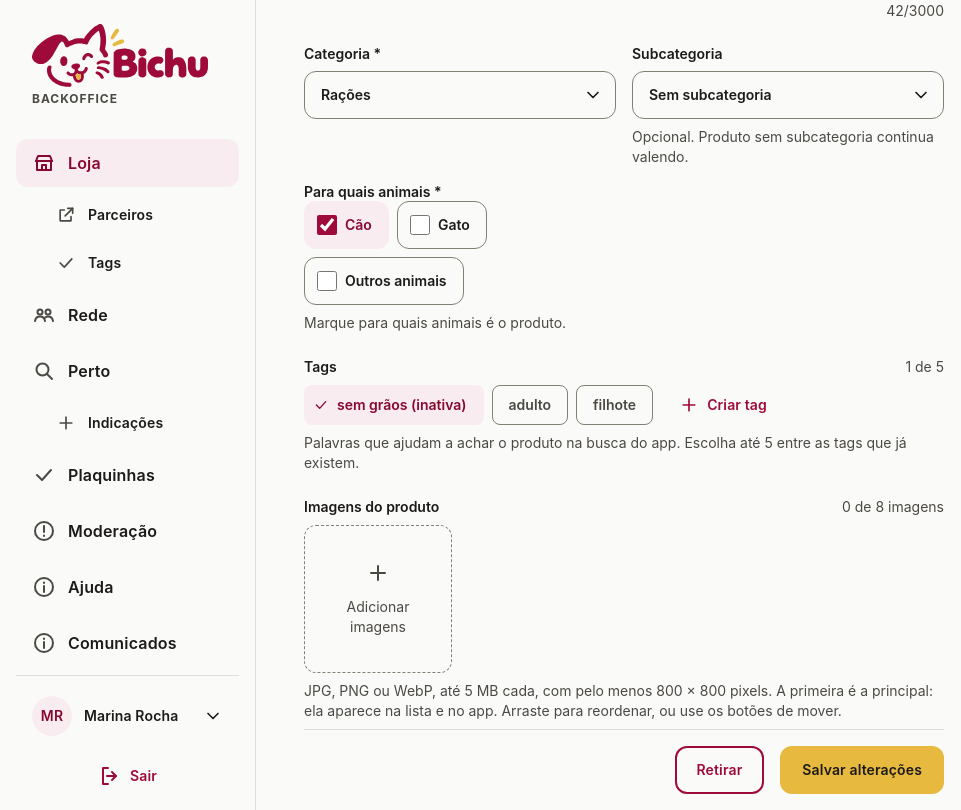
Test: casos que estavam sem teste › parceiro e tag inativos do item continuam visiveis; a tag desmarcada nao volta
(page scrolled)
Click the button "sem grãos (inativa)" at [394, 405], box [304,385,484,425]
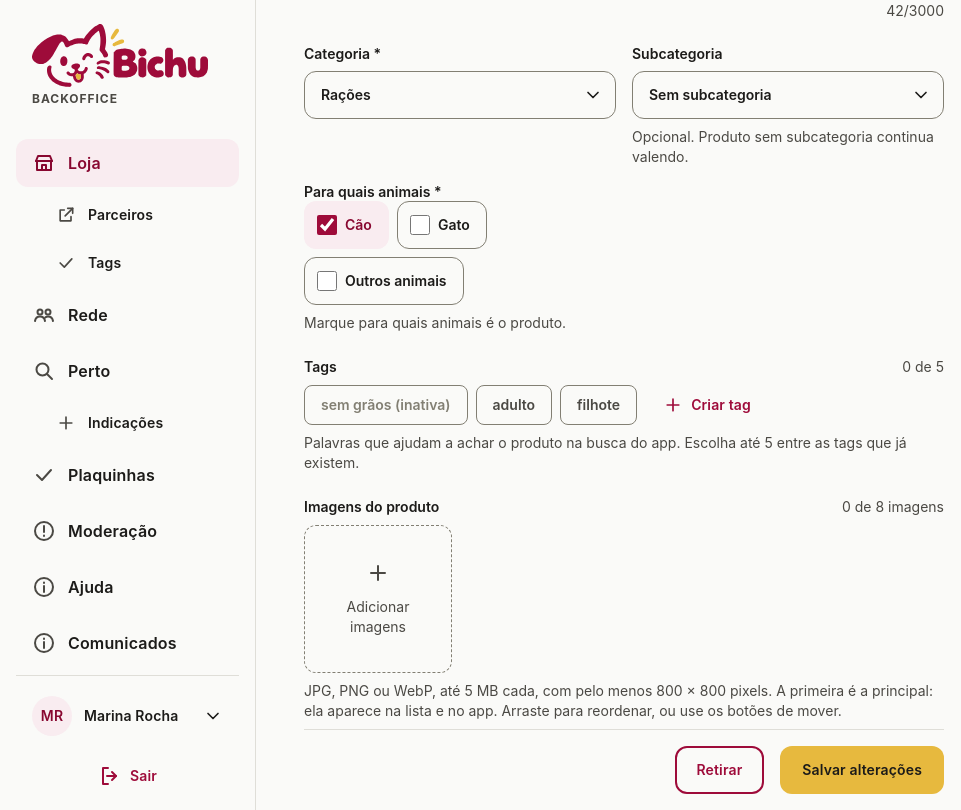
Check: the button "sem grãos (inativa)" is disabled, box [304,385,468,425]
